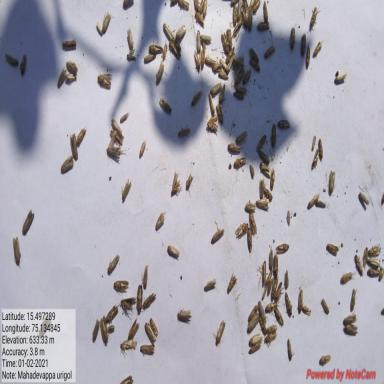pbw: (212, 317, 226, 345), (169, 169, 182, 196), (11, 234, 21, 268), (22, 208, 34, 236), (105, 254, 119, 278), (60, 152, 73, 177), (98, 313, 109, 342), (120, 296, 135, 316), (246, 312, 261, 332), (227, 5, 239, 29), (103, 303, 119, 321), (108, 128, 124, 146), (127, 317, 140, 339), (120, 180, 131, 205), (210, 225, 224, 244), (69, 129, 77, 162), (257, 298, 267, 324), (176, 310, 192, 326), (4, 51, 19, 68), (168, 39, 180, 60), (60, 36, 78, 50), (144, 321, 156, 342), (338, 266, 352, 284), (75, 125, 86, 147), (154, 62, 164, 86), (143, 290, 155, 310), (166, 245, 180, 262), (332, 69, 346, 86), (90, 318, 99, 344), (348, 286, 357, 312), (264, 330, 277, 348), (153, 211, 164, 232), (309, 151, 320, 172), (238, 0, 248, 23), (326, 168, 334, 196), (140, 262, 148, 290), (356, 189, 369, 206), (119, 337, 136, 350), (226, 274, 237, 294), (101, 12, 111, 34), (354, 254, 364, 276), (174, 23, 186, 41), (96, 74, 111, 88), (255, 198, 270, 212), (319, 295, 329, 316), (135, 285, 142, 315), (206, 92, 217, 111), (198, 44, 206, 70), (262, 301, 278, 314), (296, 288, 304, 314), (137, 138, 147, 158), (225, 43, 235, 63), (110, 117, 121, 135), (163, 22, 174, 40), (232, 18, 243, 36), (326, 242, 340, 256), (234, 221, 248, 235), (247, 341, 262, 354), (219, 31, 227, 55), (284, 292, 292, 316), (308, 192, 320, 208), (55, 69, 65, 88), (185, 171, 194, 192), (308, 3, 315, 30), (118, 113, 129, 130), (341, 312, 355, 325), (246, 227, 253, 253), (158, 98, 171, 112), (272, 310, 284, 325), (65, 59, 77, 74), (206, 55, 218, 70), (149, 316, 158, 336), (192, 11, 204, 26), (113, 279, 128, 291), (266, 246, 274, 268), (311, 41, 322, 57), (299, 33, 306, 58), (176, 126, 190, 138), (240, 198, 254, 210), (319, 352, 331, 366), (148, 43, 162, 55), (127, 28, 134, 52), (205, 277, 217, 291), (260, 260, 268, 280), (105, 147, 118, 159), (248, 58, 260, 71), (274, 242, 288, 253), (233, 156, 247, 167), (228, 52, 235, 73), (139, 344, 155, 353), (342, 327, 358, 336), (235, 130, 247, 142), (300, 304, 312, 316), (367, 244, 379, 256), (195, 26, 200, 54), (262, 187, 272, 201), (248, 302, 258, 316), (274, 282, 281, 302), (256, 21, 271, 30), (20, 56, 27, 75), (177, 0, 189, 11), (318, 136, 324, 158), (362, 246, 368, 268), (270, 166, 276, 188), (256, 152, 269, 162), (248, 335, 261, 345), (248, 46, 258, 59), (264, 44, 274, 57), (234, 67, 242, 83), (189, 92, 198, 106), (216, 71, 228, 81), (366, 266, 378, 276), (246, 8, 252, 28), (228, 142, 240, 152), (142, 52, 154, 62), (206, 122, 218, 132), (271, 122, 276, 146), (258, 178, 264, 198), (234, 91, 246, 101), (215, 104, 222, 121), (199, 33, 212, 42), (257, 135, 265, 149), (248, 164, 255, 180), (220, 57, 228, 71), (289, 26, 294, 48), (368, 258, 380, 267), (219, 84, 225, 102), (265, 324, 277, 333), (287, 340, 293, 358), (304, 47, 309, 68), (162, 42, 167, 62), (212, 83, 222, 93), (278, 119, 292, 126), (96, 20, 102, 36), (266, 280, 272, 296), (193, 50, 198, 68), (284, 266, 288, 288), (228, 28, 232, 50), (315, 201, 326, 209), (377, 265, 382, 282), (262, 2, 268, 16), (260, 161, 268, 171), (251, 3, 259, 13), (244, 69, 251, 80), (126, 52, 136, 59), (310, 134, 314, 151), (230, 0, 238, 7), (286, 209, 290, 223)
